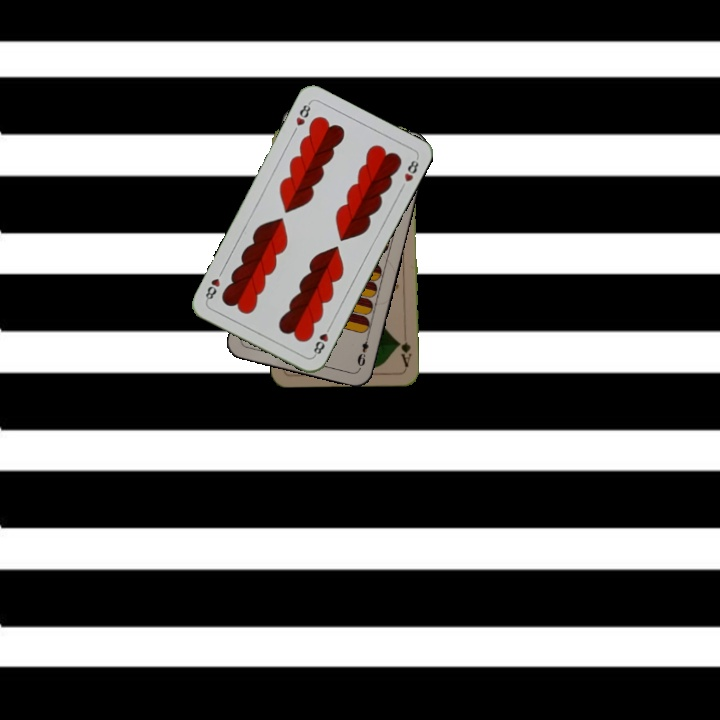E9: (353, 331, 372, 371)
GA: (394, 337, 414, 369)
H8: (309, 321, 334, 359), (292, 98, 313, 128)
